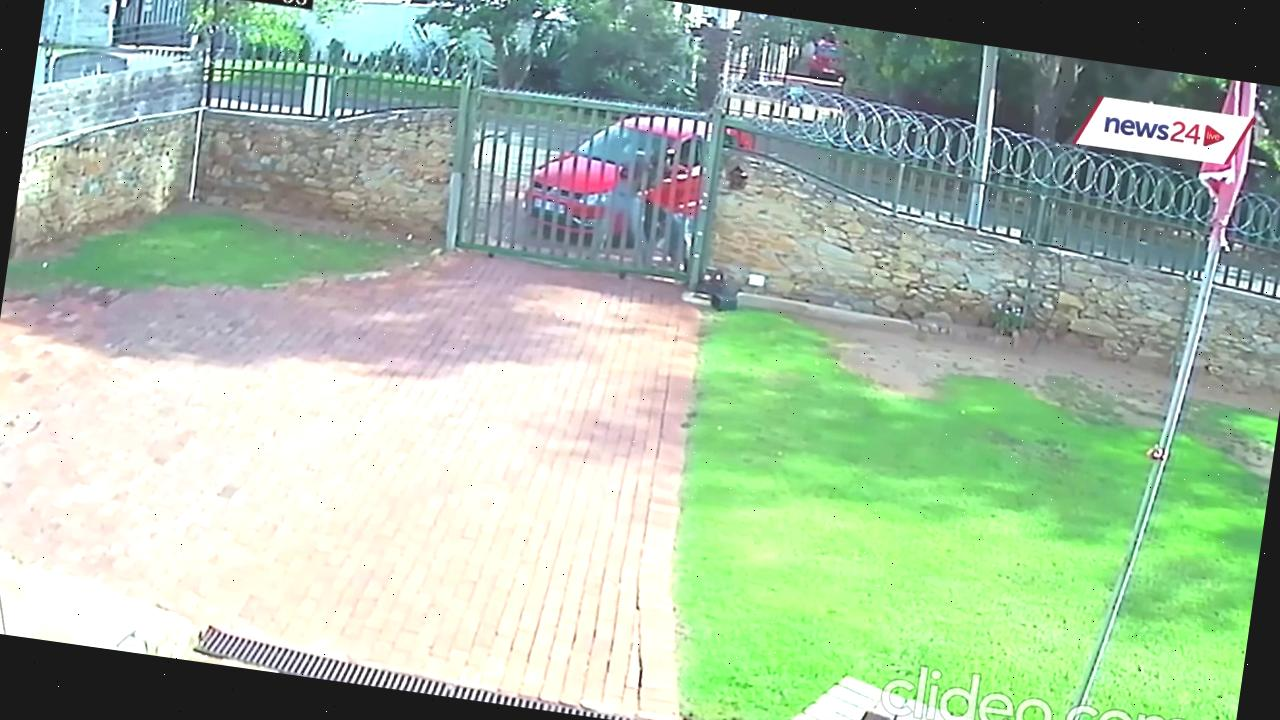suspicion: (590, 130, 670, 290), (654, 156, 704, 294)
